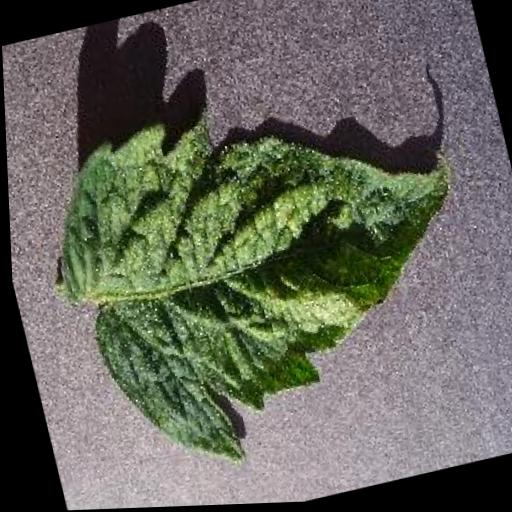Spider Mites: (25, 60, 504, 490)
